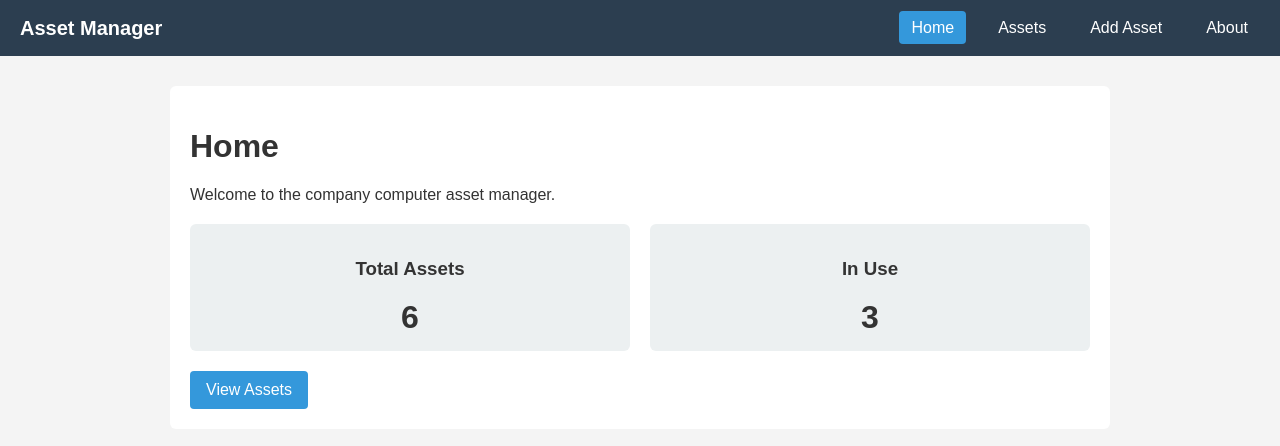
Test: clicking Add Asset opens the add page
Click the link "Add Asset" at point(1126, 28), box [1090, 19, 1162, 36]
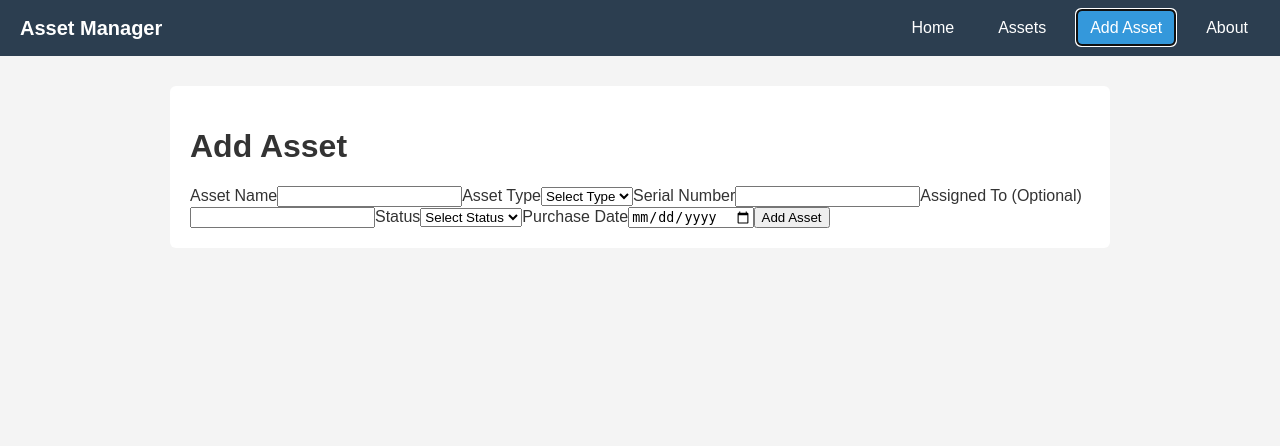
Check: the heading "Add Asset" is shown, box [190, 128, 347, 164]
